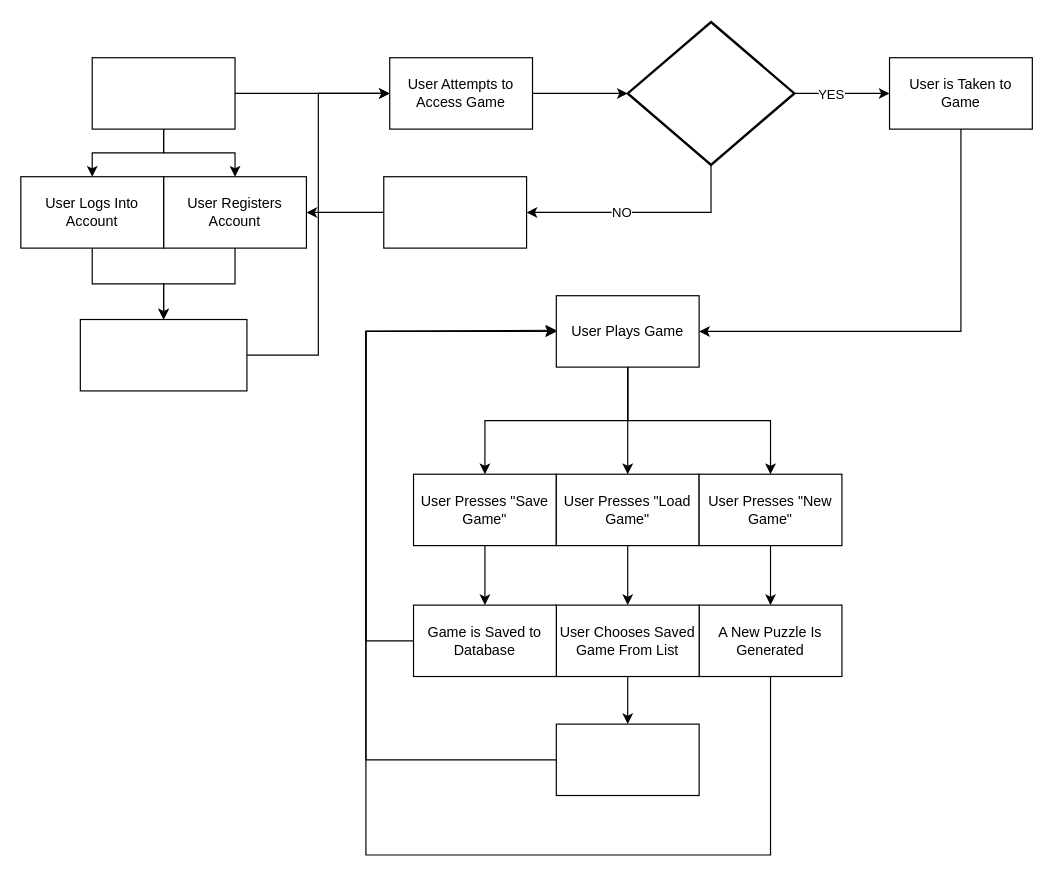
Image size: 1053x885. Some labels were removed from this diagram. The centre of each missing label's shape, as x and y in pixels:
"Is User Logged In?" goes at pixel 710 92.
"Redirect to User Registration" goes at pixel 455 212.
"Saved Game Is Loaded For User to Play" goes at pixel 627 759.
"User Enters Website" goes at pixel 163 93.
"User Is Now Logged In" goes at pixel 163 354.
